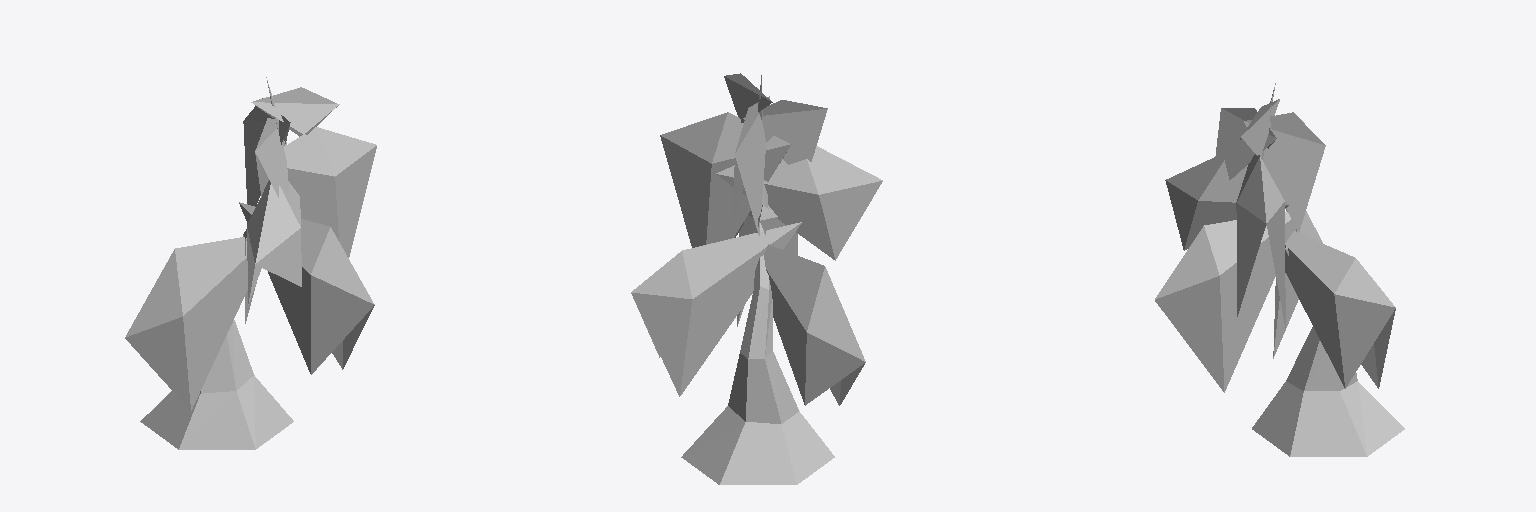
The model's file is swampsorrowcanopytree06.obj.
3 views of the same model, side by side, from view 1: azimuth 30°, elevation 25°; view 2: azimuth 150°, elevation 25°; view 3: azimuth 270°, elevation 25° (orthographic).
Parts seen in each view (by area): view 1: SwampSorrowCanopyTree06; view 2: SwampSorrowCanopyTree06; view 3: SwampSorrowCanopyTree06.
Part boxes in pixels (left/top/right/bottom): SwampSorrowCanopyTree06: left=125, top=77, right=376, bottom=449; SwampSorrowCanopyTree06: left=631, top=73, right=882, bottom=484; SwampSorrowCanopyTree06: left=1155, top=83, right=1404, bottom=456.
Bounding box in the file's own units: 30.43 × 45.59 × 28.88.